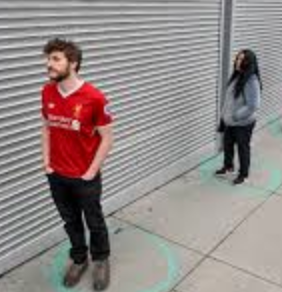Good: (40, 37, 264, 288)
